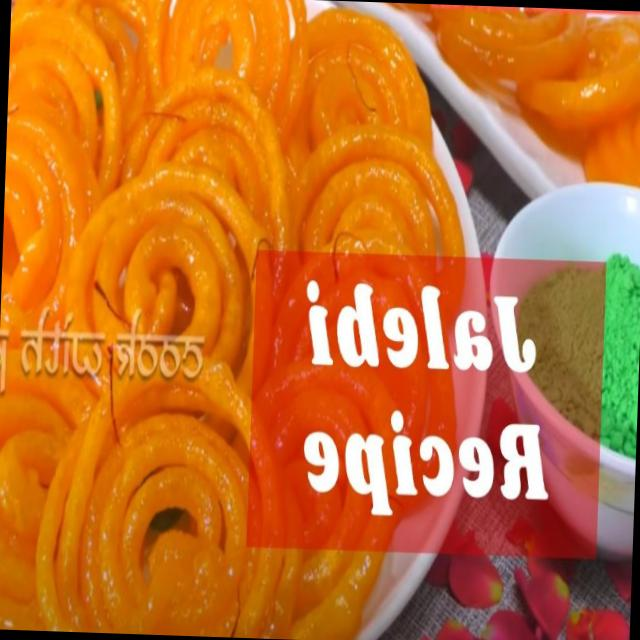jalebi: (0, 8, 435, 631), (441, 5, 640, 221)
